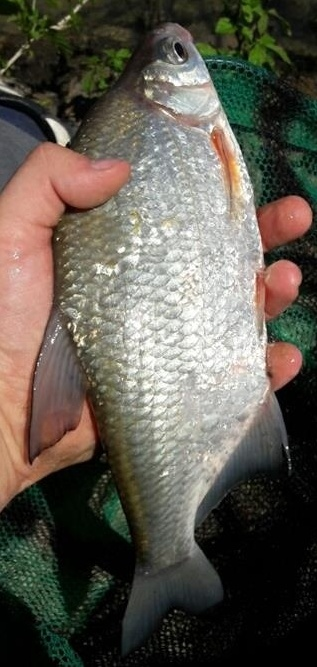Blicca bjoerkna: (20, 20, 297, 647)
